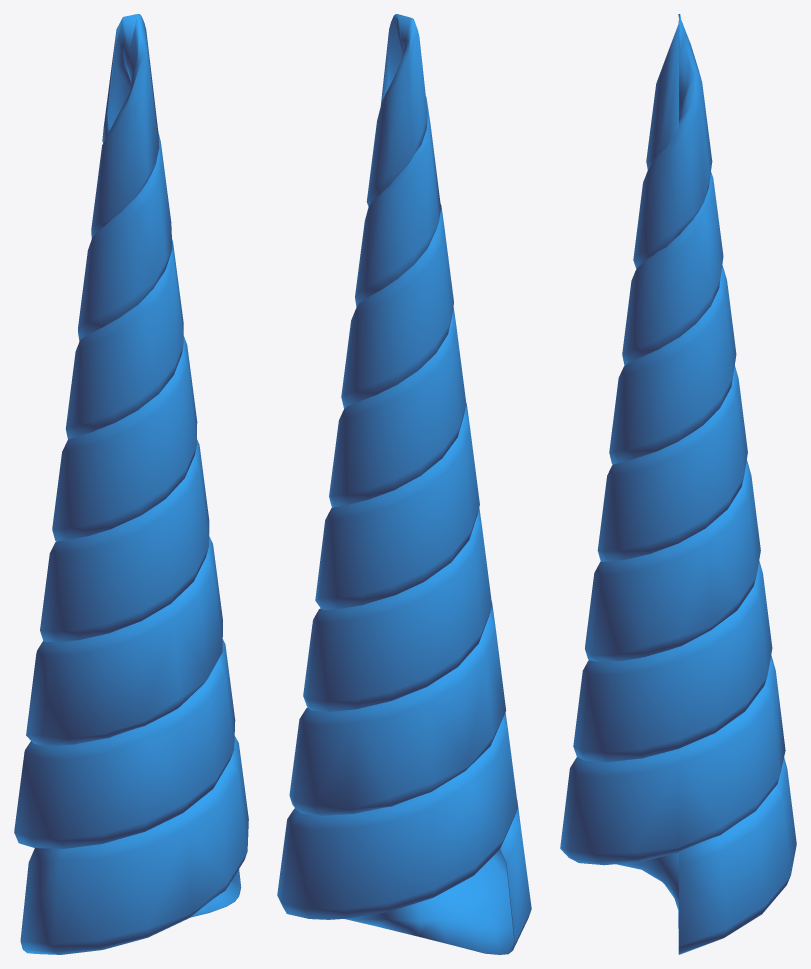
Rendered from Horn great fish.fbx.
3 renders of one model, left to right at view 1: azimuth 30°, elevation 25°; view 2: azimuth 150°, elevation 25°; view 3: azimuth 270°, elevation 25°, orthographic. The views are drawn at different scales.
Parts seen in each view (by area): view 1: horn; view 2: horn; view 3: horn.
Boxes of the visible parts, bbox=[...] form: horn: bbox=[14, 14, 248, 954]; horn: bbox=[277, 14, 531, 954]; horn: bbox=[560, 14, 796, 954].
Bounding box in the file's own units: 13.59 × 53.94 × 12.94.
